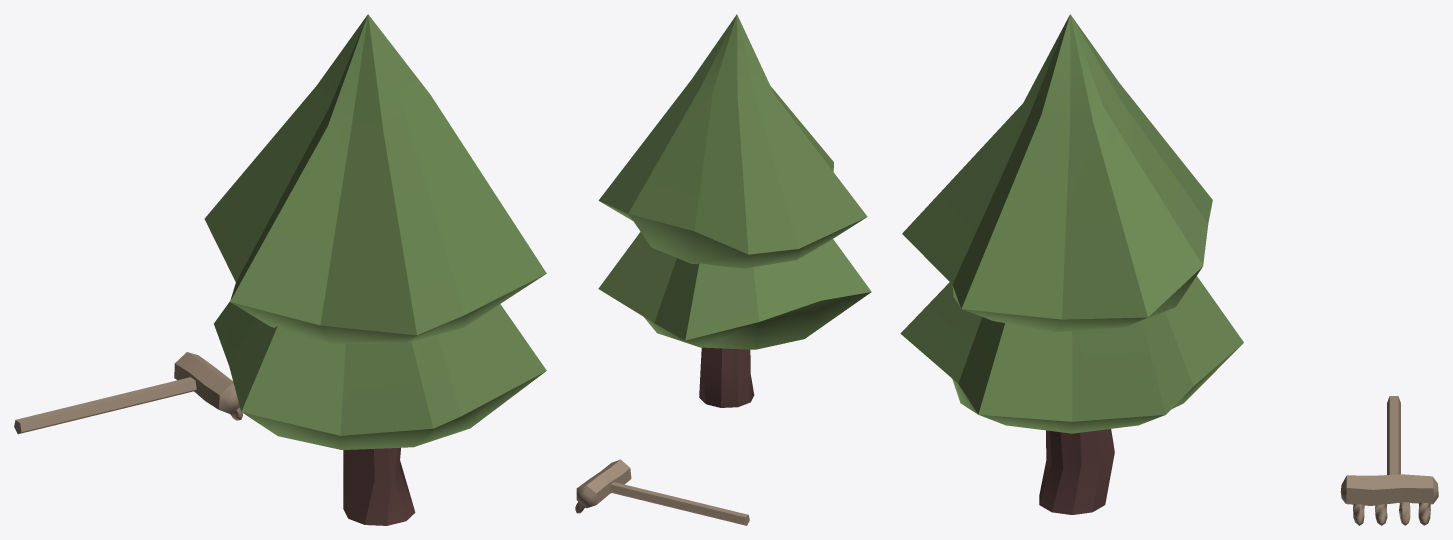
File: environment.fbx
The picture shows the model from 3 angles, left to right: view 1: azimuth 30°, elevation 25°; view 2: azimuth 150°, elevation 25°; view 3: azimuth 270°, elevation 25°; orthographic projection. The views are drawn at different scales.
Parts seen in each view (by area): view 1: leaves1, leaves2, trunk, handle, main; view 2: leaves1, leaves2, trunk, handle, main; view 3: leaves1, leaves2, trunk, main, handle.
Boxes of the visible parts, x1,y1,x2,y2 form: leaves1: (204,14,546,343); leaves2: (214,301,546,449); trunk: (343,447,415,525); handle: (14,377,196,434); main: (174,352,239,414); leaves1: (598,14,867,268); leaves2: (598,232,871,349); trunk: (699,347,754,407); handle: (609,482,749,525); main: (576,459,631,508); leaves1: (902,14,1212,332); leaves2: (900,276,1243,433); trunk: (1039,429,1114,514); main: (1340,474,1438,505); handle: (1387,396,1400,474).
Size of the model in its own units: 2.05 by 3.18 by 3.1.
